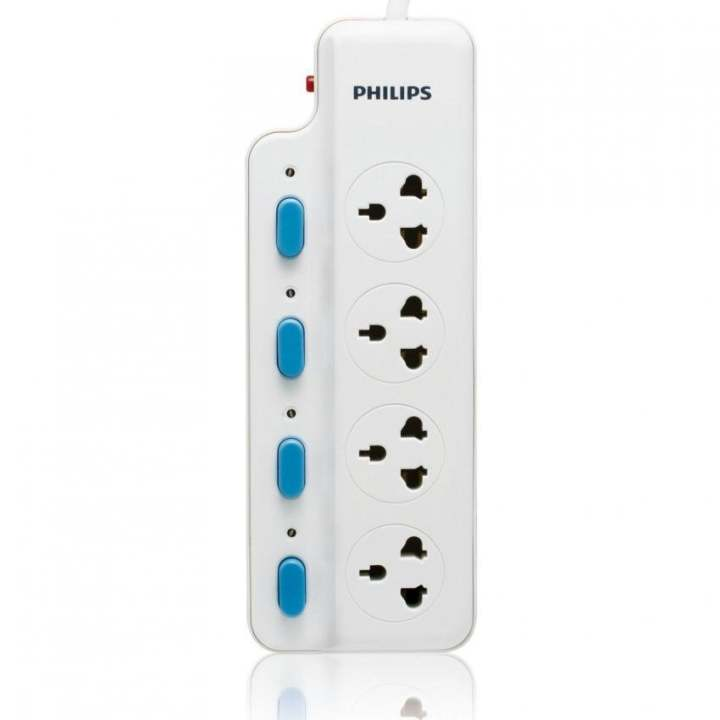Three_eye_plug: (240, 9, 485, 664)
